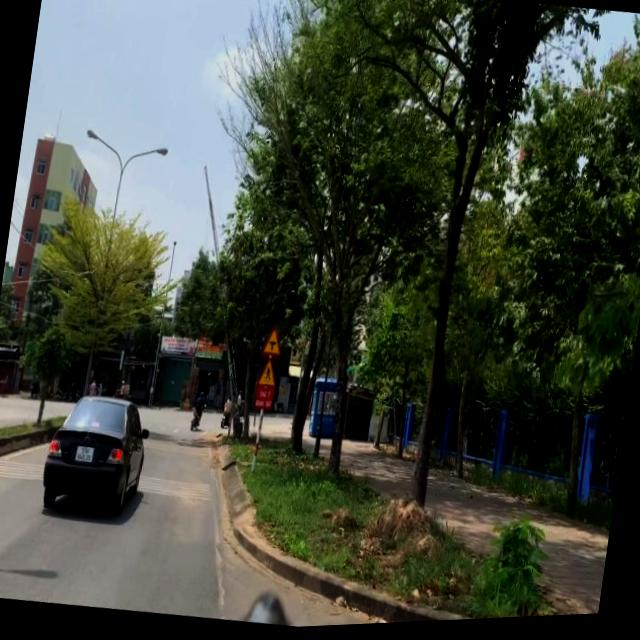Duong giao nhau cung cap: (260, 326, 286, 362)
Nguoi di bo cat ngang: (256, 356, 280, 393)
